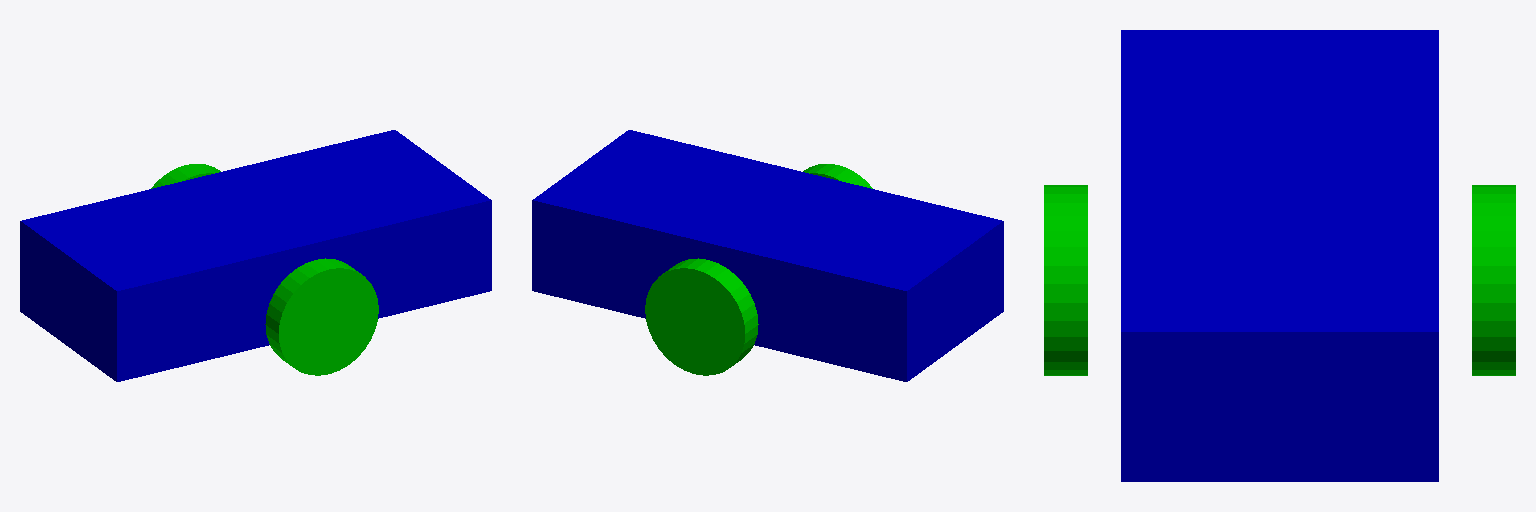
robot.urdf — val2bot:
<?xml version="1.0" ?>
<robot name="val2bot" xmlns:xacro="http://ros.org/wiki/xacro">
  <material name="black">
    <color rgba="0.0 0.0 0.0 1.0"/>
  </material>
  <material name="light_black">
    <color rgba="0.64706 0.61961 0.58824 1"/>
  </material>
  <material name="blue">
    <color rgba="0.0 0.0 0.8 1.0"/>
  </material>
  <material name="green">
    <color rgba="0.0 0.8 0.0 1.0"/>
  </material>
  <material name="grey">
    <color rgba="0.2 0.2 0.2 1.0"/>
  </material>
  <material name="orange">
    <color rgba="1.0 0.423529411765 0.0392156862745 1.0"/>
  </material>
  <material name="brown">
    <color rgba="0.870588235294 0.811764705882 0.764705882353 1.0"/>
  </material>
  <material name="red">
    <color rgba="0.8 0.0 0.0 1.0"/>
  </material>
  <material name="white">
    <color rgba="1.0 1.0 1.0 1.0"/>
  </material>
  <material name="aluminum">
    <color rgba="0.5 0.5 0.5 1.0"/>
  </material>
  <link name="base_footprint"/>
  <joint name="base_fixed" type="fixed">
    <origin rpy="0 0 0" xyz="0 0 0.075"/>
    <parent link="base_footprint"/>
    <child link="base_link"/>
  </joint>
  <link name="base_link">
    <visual>
      <origin rpy="0 0 0" xyz="-0.002 0 0.02"/>
      <geometry>
        <box size="0.56 0.25 0.13"/>
      </geometry>
      <material name="blue"/>
    </visual>
    <collision name="chessis_collision">
      <origin rpy="0 0 0" xyz="-0.002 0 0"/>
      <geometry>
        <box size="0.56 0.25 0.13"/>
      </geometry>
      <surface>
        <friction>
          <ode>
            <mu>0.1</mu>
            <mu2>0.1</mu2>
            <slip1>1.0</slip1>
            <slip2>1.0</slip2>
          </ode>
        </friction>
      </surface>
    </collision>
    <inertial>
      <mass value="10.0"/>
      <origin rpy=" 0 0 0" xyz="-0.11 0 0"/>
      <inertia ixx="0.0661666666667" ixy="0" ixz="0" iyy="0.275416666667" iyz="0" izz="0.275416666667"/>
    </inertial>
  </link>
  <joint name="right_wheel_joint" type="fixed">
    <origin rpy="1.570795 0 0" xyz="0 -0.168 0"/>
    <parent link="base_link"/>
    <child link="right_wheel"/>
  </joint>
  <joint name="left_wheel_joint" type="fixed">
    <origin rpy="-1.570795 0 0" xyz="0 0.168 0"/>
    <parent link="base_link"/>
    <child link="left_wheel"/>
  </joint>
  <link name="right_wheel">
    <visual>
      <origin rpy="0 0 0" xyz="0 0 0"/>
      <geometry>
        <cylinder length="0.034" radius="0.075"/>
      </geometry>
      <material name="green"/>
    </visual>
    <collision name="right_wheel_collision">
      <origin rpy="0 0 0" xyz="0 0 0"/>
      <geometry>
        <cylinder length="0.034" radius="0.075"/>
      </geometry>
      <surface>
        <friction>
          <ode>
            <mu>0.1</mu>
            <mu2>0.1</mu2>
            <slip1>1.0</slip1>
            <slip2>1.0</slip2>
          </ode>
        </friction>
      </surface>
    </collision>
    <inertial>
      <mass value="1.0"/>
      <origin rpy=" 0 0 0" xyz="0 0 0"/>
      <inertia ixx="0.00166666666667" ixy="0" ixz="0" iyy="0.00166666666667" iyz="0" izz="0.00166666666667"/>
    </inertial>
  </link>
  <link name="left_wheel">
    <visual>
      <origin rpy="0 0 0" xyz="0 0 0"/>
      <geometry>
        <cylinder length="0.034" radius="0.075"/>
      </geometry>
      <material name="green"/>
    </visual>
    <collision name="left_wheel_collision">
      <origin rpy="0 0 0" xyz="0 0 0"/>
      <geometry>
        <cylinder length="0.034" radius="0.075"/>
      </geometry>
      <surface>
        <friction>
          <ode>
            <mu>0.1</mu>
            <mu2>0.1</mu2>
            <slip1>1.0</slip1>
            <slip2>1.0</slip2>
          </ode>
        </friction>
      </surface>
    </collision>
    <inertial>
      <mass value="1.0"/>
      <origin rpy=" 0 0 0" xyz="0 0 0"/>
      <inertia ixx="0.00166666666667" ixy="0" ixz="0" iyy="0.00166666666667" iyz="0" izz="0.00166666666667"/>
    </inertial>
  </link>
  <joint name="laser_frame_base_fixed" type="fixed">
    <!-- <origin xyz="0 0 0" rpy="0 0 0"/> -->
    <origin rpy="0 0 0" xyz="-0.14 0 0.12"/>
    <parent link="base_link"/>
    <child link="laser_frame_base_link"/>
  </joint>
  <link name="laser_frame_base_link">
    <visual>
      <origin rpy="0 0 0" xyz="0 0 0"/>
      <geometry>
        <mesh filename="package://val2_description/sensors/ydlidar/meshes/ydlidar_g4.dae"/>
      </geometry>
      <material name="light_black"/>
    </visual>
    <collision>
      <origin rpy="0 0 0" xyz="0 0 0.02"/>
      <geometry>
        <cylinder length="0.05" radius="0.040"/>
        <!-- <mesh filename="package://val2_description/sensors/ydlidar/meshes/ydlidar_g4.dae" /> -->
      </geometry>
    </collision>
    <inertial>
      <origin rpy="0 0 0" xyz="-0.00029774 0.0066667 0.00013047"/>
      <mass value="0.15717"/>
      <inertia ixx="6.7885E-05" ixy="-1.3987E-07" ixz="-8.1554E-07" iyy="0.00013173" iyz="-9.0932E-08" izz="7.1972E-05"/>
    </inertial>
  </link>
  <joint name="laser_frame_fixed" type="fixed">
    <origin rpy="0 0 0" xyz="0 0 0.03172"/>
    <parent link="laser_frame_base_link"/>
    <child link="laser_frame_frame"/>
  </joint>
  <link name="laser_frame_frame">
    <inertial>
      <origin rpy="0 0 0" xyz="-0.00036659 0.00064155 -0.00027052"/>
      <mass value="0.25482"/>
      <inertia ixx="8.9194E-05" ixy="1.8116E-07" ixz="3.6435E-08" iyy="0.00018279" iyz="2.423E-07" izz="0.00011103"/>
    </inertial>
  </link>
  <gazebo reference="laser_frame_frame">
    <sensor name="laser_frame_sensor" type="ray">
      <pose>0 0 0 0 0 0</pose>
      <visualize>true</visualize>
      <!-- <visualize>true</visualize> -->
      <update_rate>20</update_rate>
      <ray>
        <scan>
          <horizontal>
            <!-- 180 deg -> 640 -->
            <!-- <samples>640</samples> -->
            <!-- <samples>1280</samples>  -->
            <samples>1280.3864204</samples>
            <resolution>1</resolution>
            <min_angle>-3.14159</min_angle>
            <max_angle>3.14159</max_angle>
          </horizontal>
        </scan>
        <range>
          <min>0.26</min>
          <max>12.0</max>
          <resolution>0.03</resolution>
        </range>
        <noise>
          <type>gaussian</type>
          <mean>0.0</mean>
          <stddev>0.01</stddev>
        </noise>
      </ray>
      <plugin filename="libgazebo_ros_laser.so" name="laser_frame_gazebo_plugin">
        <robotNamespace>/val2</robotNamespace>
        <topicName>/scan</topicName>
        <frameName>laser_frame_frame</frameName>
      </plugin>
    </sensor>
  </gazebo>
</robot>

--- Facts derived from the render (not from the file) ---
Views: 3 orthographic renders of the robot side by side, from view 1: azimuth 30°, elevation 25°; view 2: azimuth 150°, elevation 25°; view 3: azimuth 270°, elevation 25°.
Model val2bot with 6 links and 5 joints (5 fixed), rooted at base_footprint, posed all joints at 0.
Links seen in each view (by area): view 1: base_link, right_wheel, left_wheel; view 2: base_link, left_wheel, right_wheel; view 3: base_link, right_wheel, left_wheel.
Link boxes in pixels (x1,y1,x2,y2): base_link: (20,130,491,381); right_wheel: (265,258,378,375); left_wheel: (151,164,220,188); base_link: (532,130,1003,381); left_wheel: (645,258,758,375); right_wheel: (803,164,872,188); base_link: (1121,30,1438,481); right_wheel: (1044,185,1087,375); left_wheel: (1472,185,1515,375).
Size in the robot's own frame: 0.56 by 0.37 by 0.16 metres.
0 mesh visuals loaded from 1 distinct referenced files (none loaded); not drawn: 1 (reference not matched to a file when rendering).